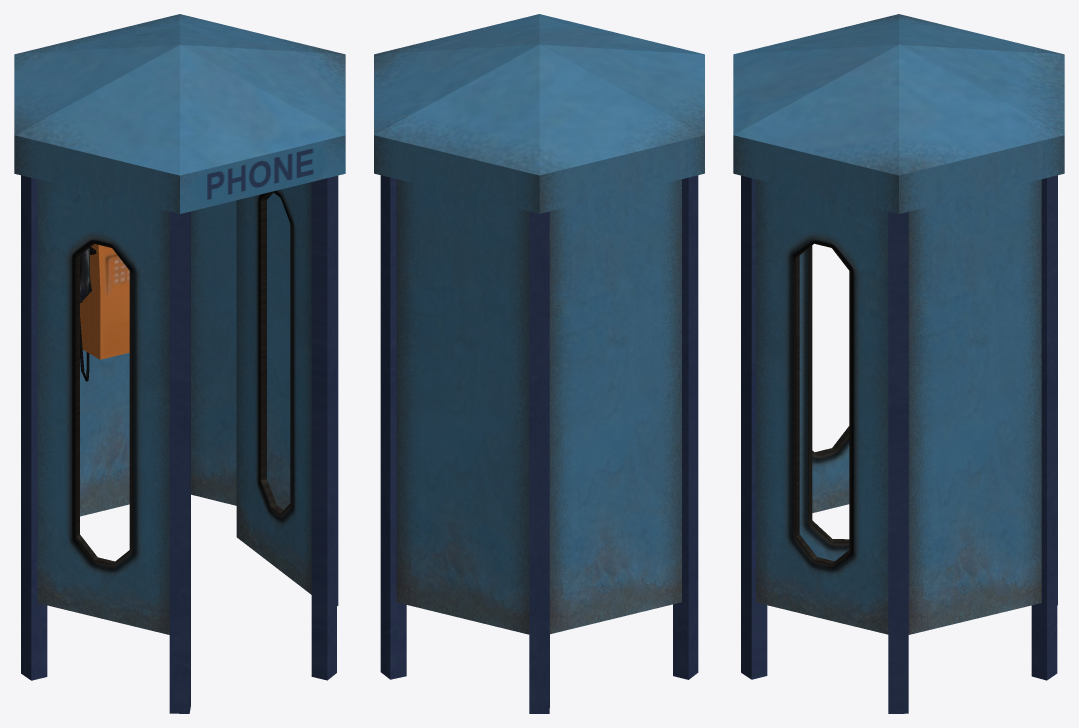
File: phone_02.FBX
3 renders of one model, left to right at view 1: azimuth 30°, elevation 25°; view 2: azimuth 150°, elevation 25°; view 3: azimuth 270°, elevation 25°, orthographic.
Visible parts, largest first — view 1: phone_02; view 2: phone_02; view 3: phone_02.
Part boxes in pixels (bbox=[...]): phone_02: bbox=[14, 14, 345, 713]; phone_02: bbox=[374, 14, 704, 713]; phone_02: bbox=[733, 14, 1064, 713].
Bounding box in the file's own units: 49.68 × 85.21 × 43.02.
1 material, 1 textured.
